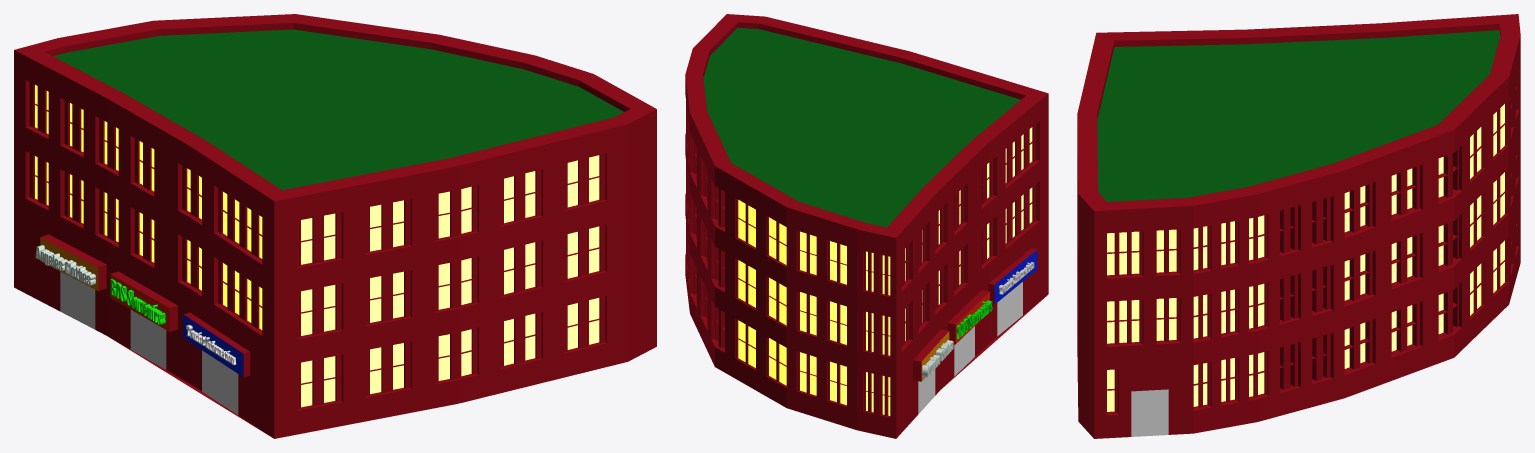
Rendered from grande_el_garcia_boulevard.fbx.
The picture shows the model from 3 angles, left to right: view 1: azimuth 30°, elevation 25°; view 2: azimuth 150°, elevation 25°; view 3: azimuth 270°, elevation 25°; orthographic projection. The views are drawn at different scales.
Visible parts, largest first — view 1: grande_el_garcia_boulevard, Text.002, Text.001; view 2: grande_el_garcia_boulevard, Text.001, Text.002; view 3: grande_el_garcia_boulevard.
Part boxes in pixels (left/top/right/bottom): grande_el_garcia_boulevard: left=14, top=14, right=656, bottom=438; Text.002: left=35, top=245, right=95, bottom=285; Text.001: left=110, top=279, right=165, bottom=325; grande_el_garcia_boulevard: left=685, top=14, right=1048, bottom=438; Text.001: left=957, top=300, right=992, bottom=339; Text.002: left=922, top=340, right=953, bottom=377; grande_el_garcia_boulevard: left=1077, top=14, right=1520, bottom=438.
Size of the model in its own units: 851 by 450 by 794.
